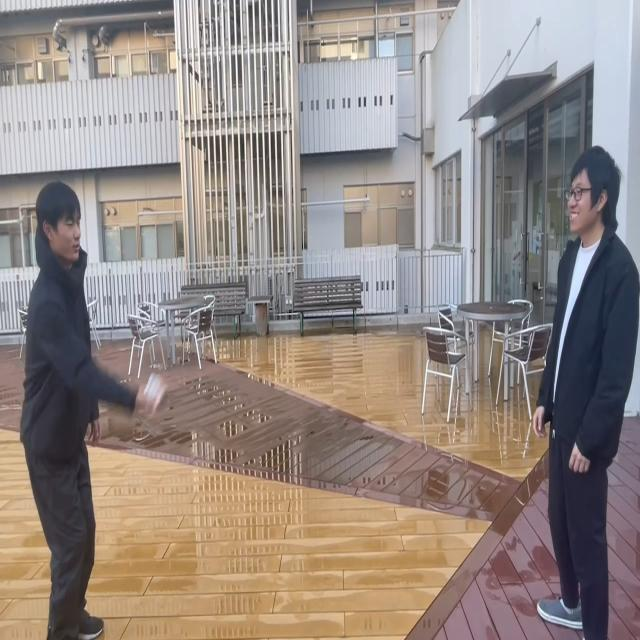bottle: (141, 370, 168, 415)
